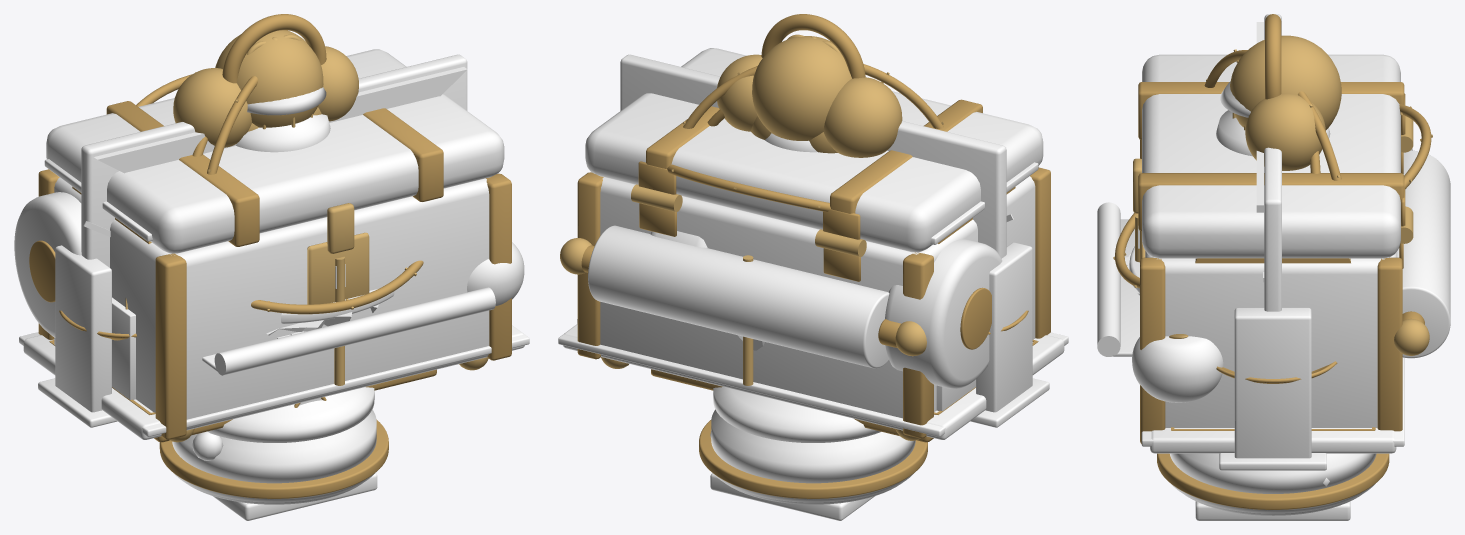
The model's file is sculptures.glb.
3 renders of one model, left to right at view 1: azimuth 30°, elevation 25°; view 2: azimuth 150°, elevation 25°; view 3: azimuth 270°, elevation 25°, orthographic.
Parts seen in each view (by area): view 1: Chest, Lid, Fittings, Cloud, Envelope, King, Stands, Sheet, Villa, Dumbbell, Base.001, Disc (+12 smaller); view 2: Lid, Chest, Roller, Cloud, Fittings, Dumbbell, Envelope, King, Stands, Villa, Base.001, Disc (+8 smaller); view 3: Lid, Chest, Stands, Cloud, Roller, Fittings, King, Apple, Sheet, Disc, Court, Envelope (+9 smaller).
Boxes of the visible parts, left/top/right/bottom form: Chest: left=54, top=177, right=489, bottom=430; Lid: left=46, top=49, right=504, bottom=253; Fittings: left=38, top=169, right=511, bottom=442; Cloud: left=173, top=30, right=358, bottom=147; Envelope: left=81, top=54, right=467, bottom=267; King: left=172, top=114, right=376, bottom=483; Stands: left=38, top=245, right=117, bottom=427; Sheet: left=202, top=287, right=495, bottom=375; Villa: left=19, top=159, right=529, bottom=436; Dumbbell: left=14, top=192, right=81, bottom=337; Base.001: left=207, top=387, right=374, bottom=442; Disc: left=159, top=419, right=388, bottom=498; Lid: left=585, top=48, right=1043, bottom=252; Chest: left=600, top=176, right=1035, bottom=418; Roller: left=560, top=225, right=926, bottom=368; Cloud: left=717, top=36, right=902, bottom=157; Fittings: left=577, top=167, right=1050, bottom=440; Dumbbell: left=650, top=231, right=1002, bottom=388; Envelope: left=620, top=54, right=1013, bottom=258; King: left=711, top=133, right=915, bottom=483; Stands: left=577, top=242, right=1049, bottom=427; Villa: left=558, top=162, right=1068, bottom=436; Base.001: left=713, top=387, right=881, bottom=442; Disc: left=699, top=420, right=927, bottom=498; Lid: left=1133, top=54, right=1405, bottom=258; Chest: left=1145, top=251, right=1397, bottom=427; Stands: left=1219, top=307, right=1326, bottom=470; Cloud: left=1230, top=35, right=1341, bottom=170; Roller: left=1394, top=150, right=1450, bottom=358; Fittings: left=1138, top=116, right=1413, bottom=443; King: left=1170, top=110, right=1376, bottom=493; Apple: left=1132, top=334, right=1223, bottom=402; Sheet: left=1097, top=202, right=1139, bottom=356; Disc: left=1157, top=453, right=1389, bottom=509; Court: left=1150, top=427, right=1396, bottom=453; Envelope: left=1256, top=14, right=1281, bottom=311.
Size of the model in its own units: 1.75 by 1.84 by 1.26.
